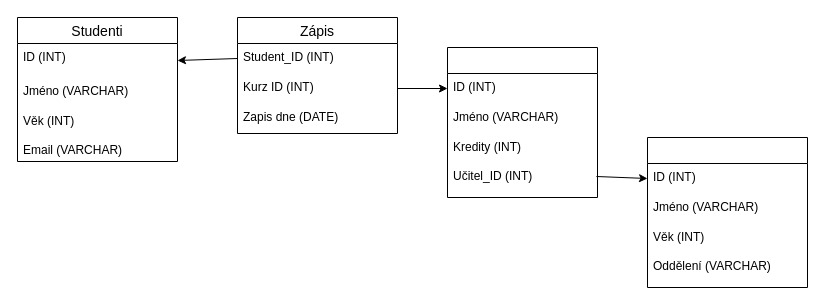
Image size: 825x308. Some labels were removed from this diagram. The box of each missing label's shape, as (x1, y1, x2, y2) in pixels:
Kurzy: (446, 46, 598, 198)
Učitelé: (646, 136, 808, 288)
